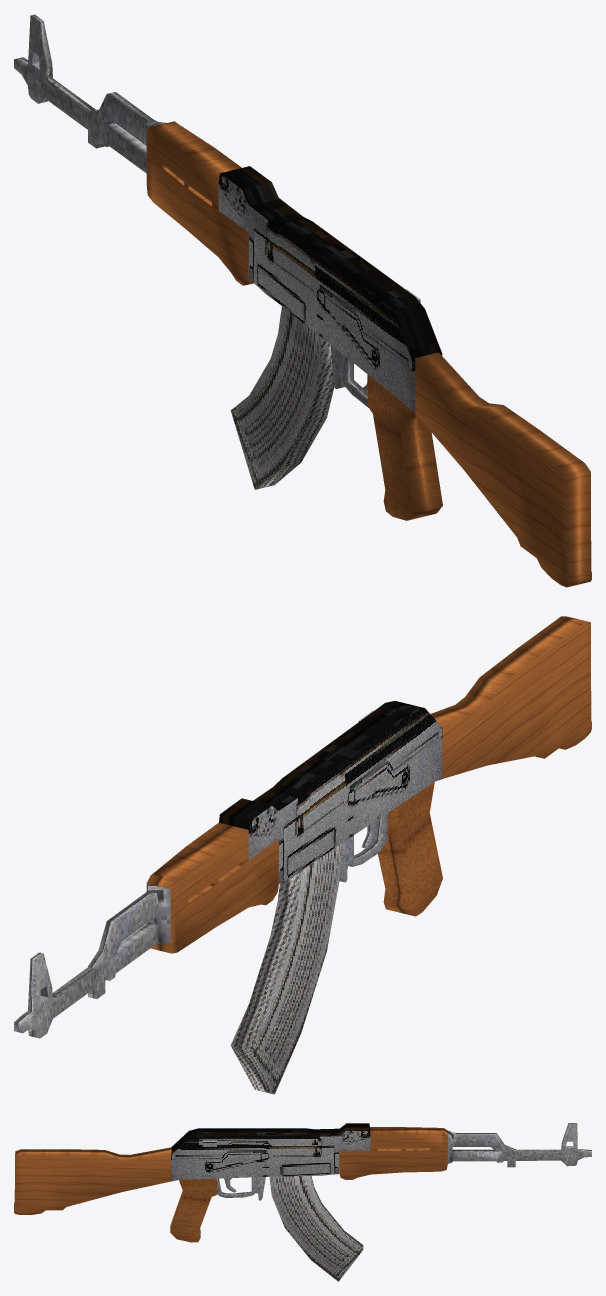
3 views of the same model, one above another, from view 1: azimuth 30°, elevation 25°; view 2: azimuth 150°, elevation 25°; view 3: azimuth 270°, elevation 25° (orthographic). The views are drawn at different scales.
Visible parts, largest first — view 1: Main, Stock, Barrel, Magazine, Trigger Guard; view 2: Main, Barrel, Stock, Magazine, Trigger Guard; view 3: Main, Stock, Barrel, Magazine, Cube, Trigger Guard.
Boxes of the visible parts, x1=… form: Main: x1=218, y1=166, x2=442, y2=520; Stock: x1=414, y1=352, x2=591, y2=587; Barrel: x1=14, y1=14, x2=253, y2=285; Magazine: x1=230, y1=306, x2=334, y2=489; Trigger Guard: x1=330, y1=345, x2=368, y2=407; Main: x1=219, y1=701, x2=442, y2=916; Barrel: x1=14, y1=822, x2=278, y2=1038; Stock: x1=430, y1=616, x2=591, y2=778; Magazine: x1=230, y1=844, x2=341, y2=1094; Trigger Guard: x1=339, y1=813, x2=387, y2=882; Main: x1=170, y1=1123, x2=370, y2=1242; Stock: x1=14, y1=1147, x2=171, y2=1214; Barrel: x1=339, y1=1123, x2=591, y2=1179; Magazine: x1=269, y1=1175, x2=363, y2=1281; Cube: x1=199, y1=1139, x2=317, y2=1146; Trigger Guard: x1=217, y1=1177, x2=265, y2=1200.
Bounding box in the file's own units: 0.195 × 1.44 × 4.86.
Materials: 3 (3 with a texture image).
